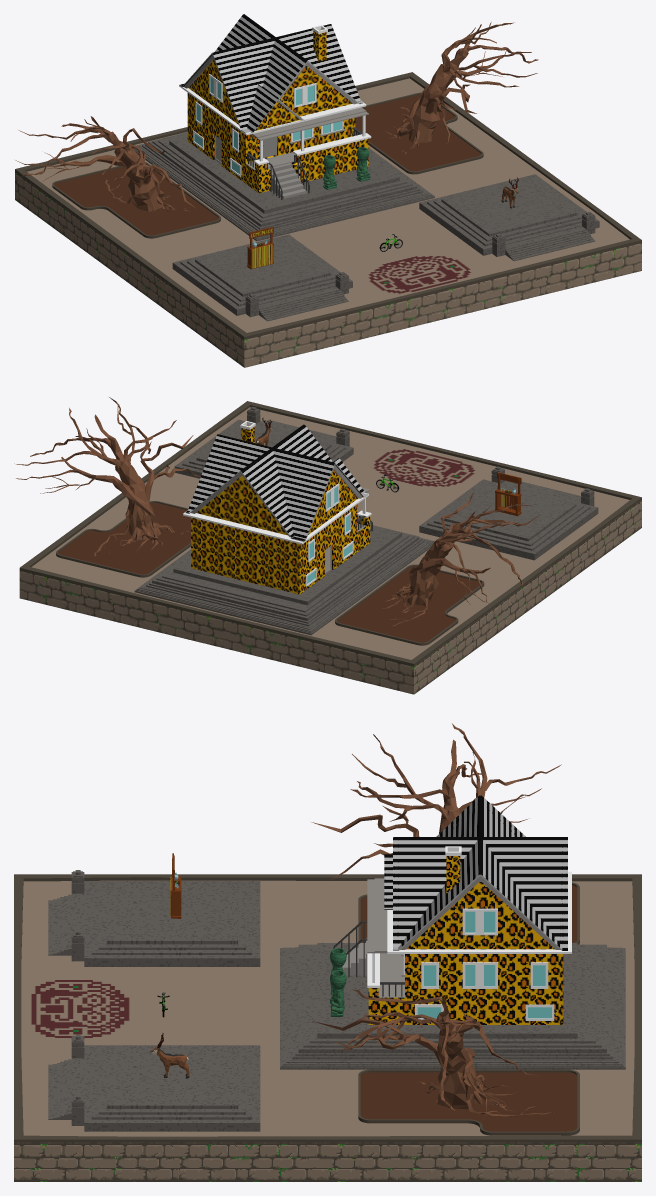
3 views of the same model, one above another, from view 1: azimuth 30°, elevation 25°; view 2: azimuth 150°, elevation 25°; view 3: azimuth 270°, elevation 25° (orthographic). The views are drawn at different scales.
Parts seen in each view (by area): view 1: Cube.011, Cube.637, OBJRANDOM_LEMONADE_STAND; view 2: Cube.011, Cube.637, OBJRANDOM_LEMONADE_STAND; view 3: Cube.011, Cube.637.
Part boxes in pixels (x1,y1,x2,y2): Cube.011: [15, 22, 641, 367]; Cube.637: [179, 14, 371, 199]; OBJRANDOM_LEMONADE_STAND: [247, 226, 273, 269]; Cube.011: [14, 397, 641, 694]; Cube.637: [183, 421, 372, 594]; OBJRANDOM_LEMONADE_STAND: [495, 472, 521, 516]; Cube.011: [14, 723, 641, 1181]; Cube.637: [333, 795, 571, 1024].
Size of the model in its own units: 5099 by 1663 by 4000.
Materials: 35 (6 with a texture image).
